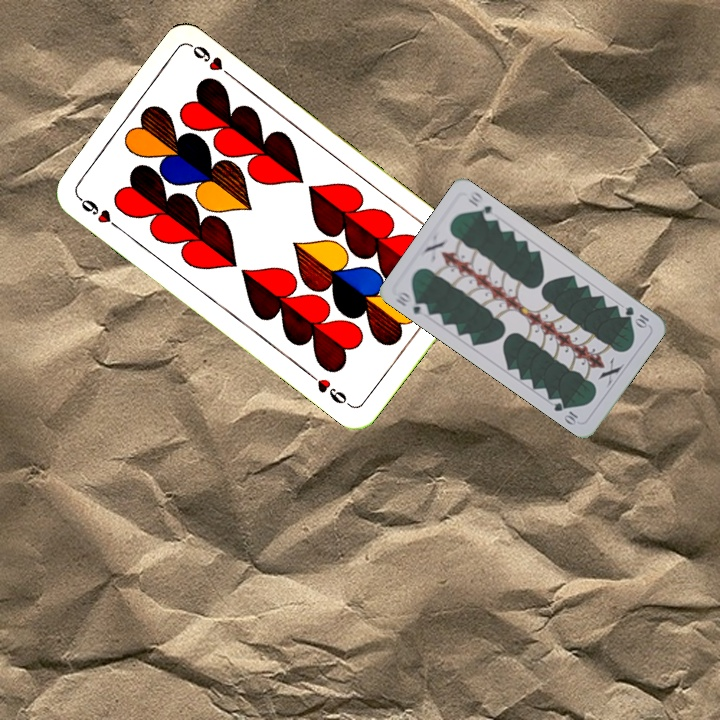G10: (392, 288, 431, 319), (621, 302, 653, 331)
H9: (73, 191, 123, 233)
